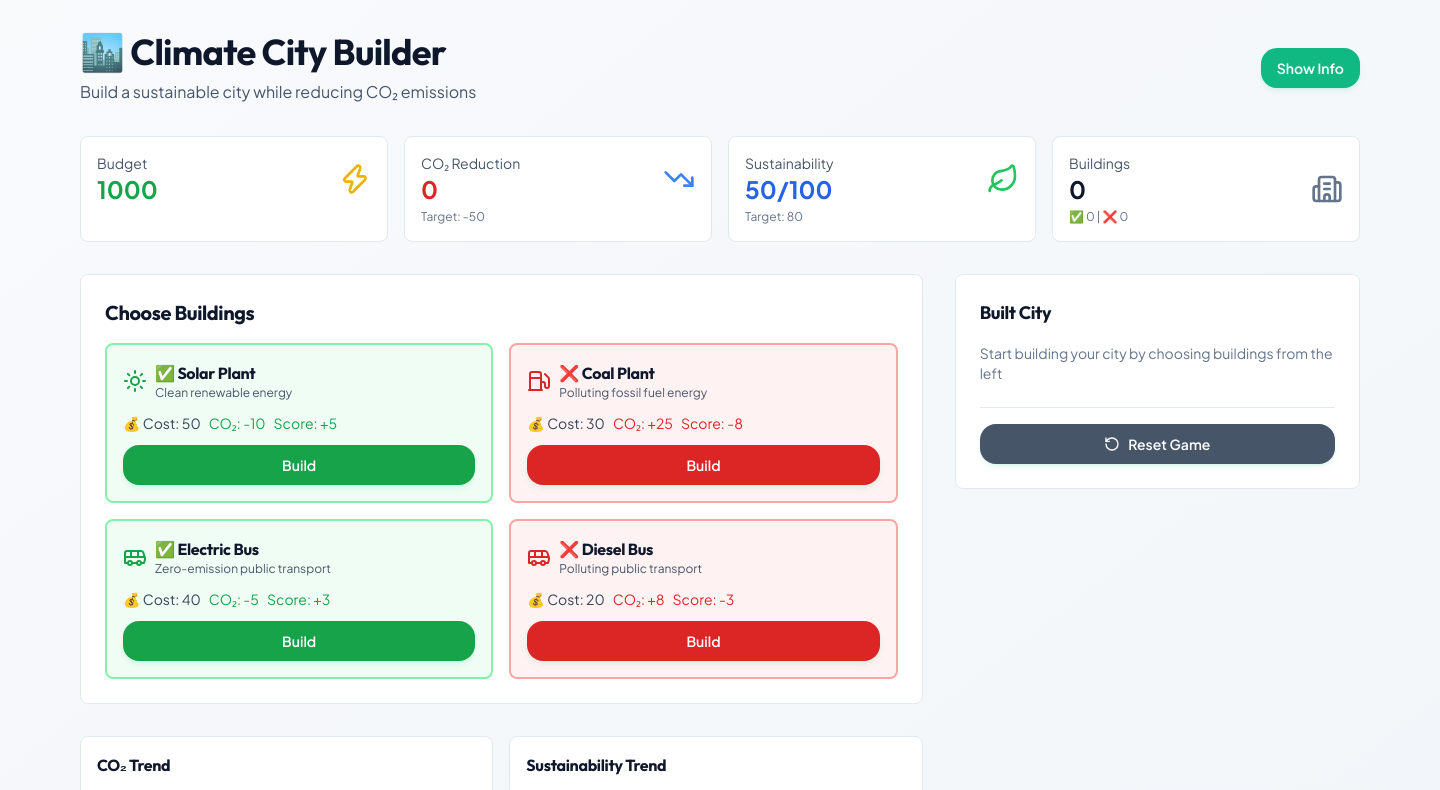
Test: ClimateCityBuilder › allows removing buildings
Click the button "Build" below "-10": (299, 465) x1=123 y1=445 x2=475 y2=485
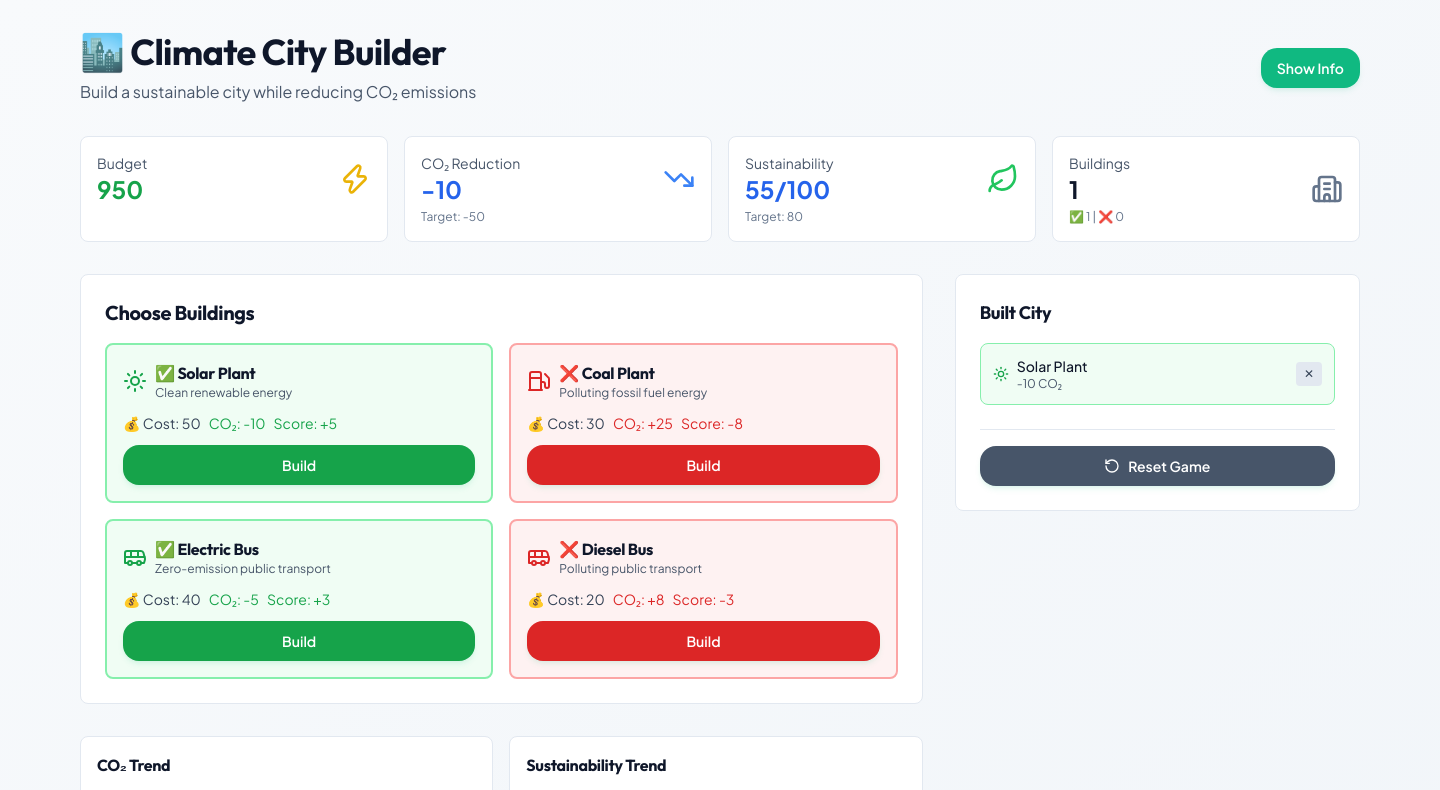
Result: the text "Solar Plant" is shown at x1=1017 y1=356 x2=1088 y2=376
// Remove the building
Click the button "✕": (1309, 374) x1=1296 y1=362 x2=1322 y2=386
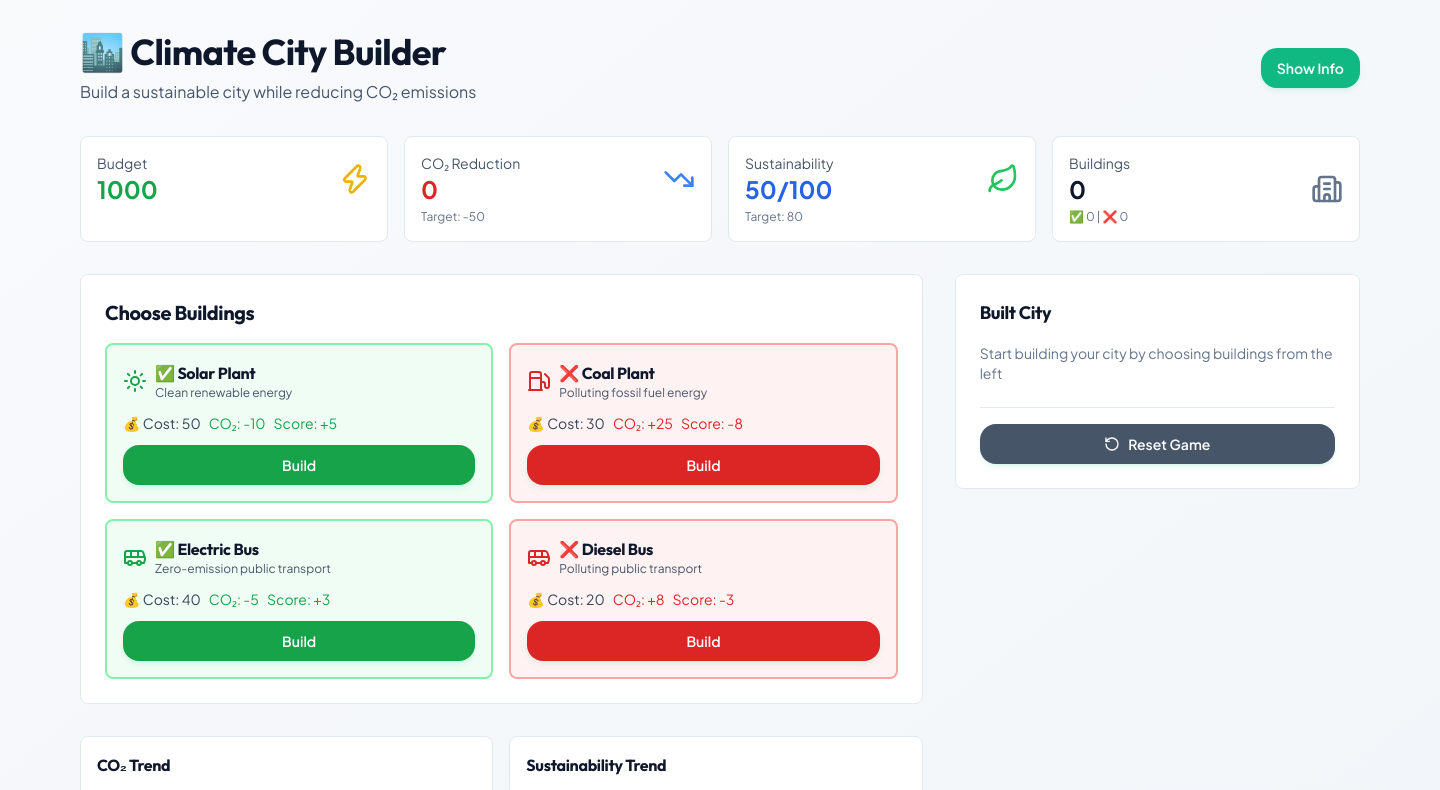
Result: the text "1000" is shown at x1=97 y1=173 x2=158 y2=205
